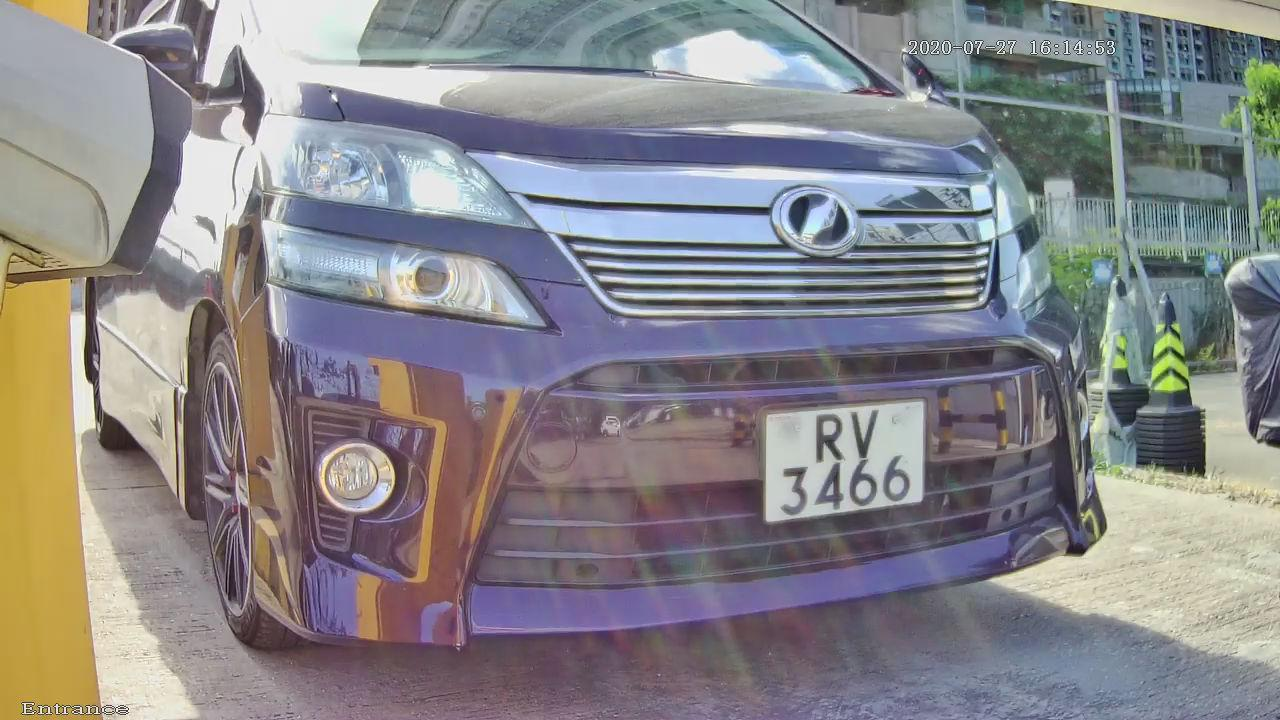privatecar: (109, 49, 1138, 647)
